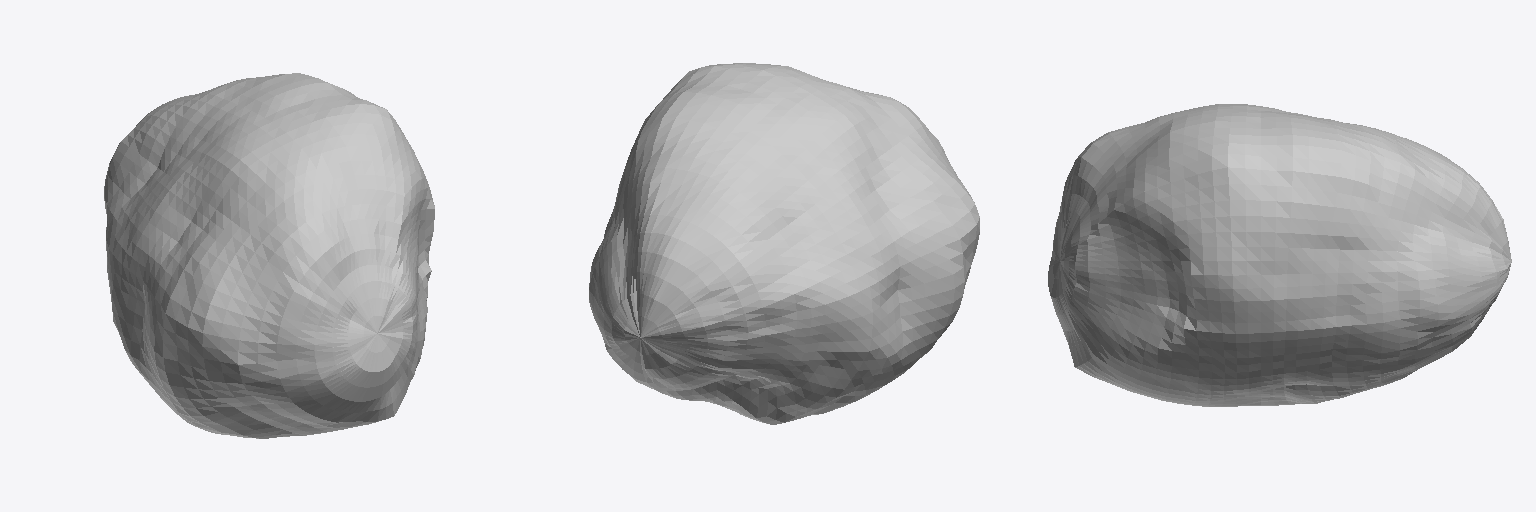
The model's file is hyperion.obj.
3 views of the same model, side by side, from view 1: azimuth 30°, elevation 25°; view 2: azimuth 150°, elevation 25°; view 3: azimuth 270°, elevation 25° (orthographic).
Bounding box in the file's own units: 250 × 253 × 347.